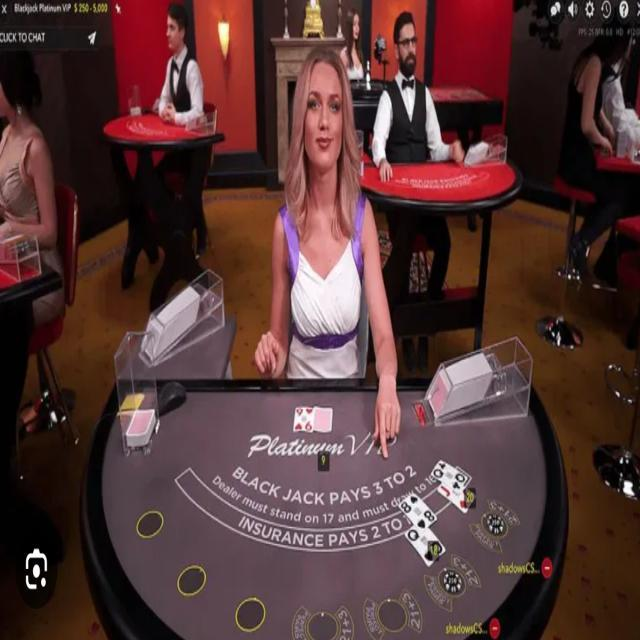Card-8: (398, 491, 437, 532)
Card-9: (294, 406, 314, 432)
Card-J: (437, 484, 476, 513)
Card-Q: (404, 524, 446, 568), (431, 459, 468, 494)
